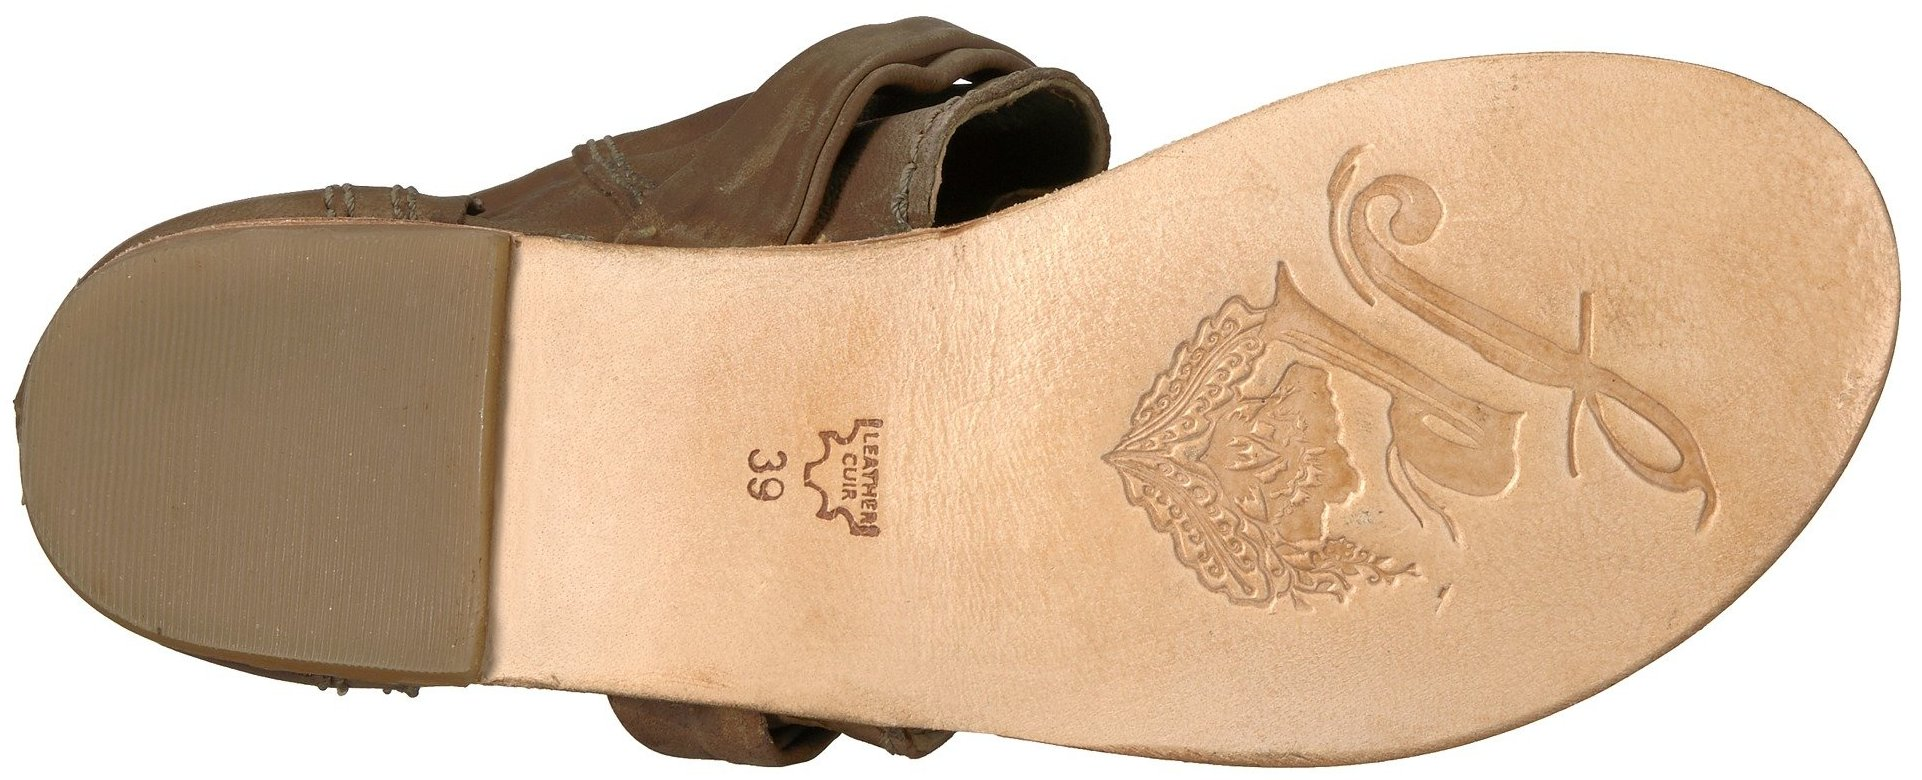line: (92, 309, 440, 586)
